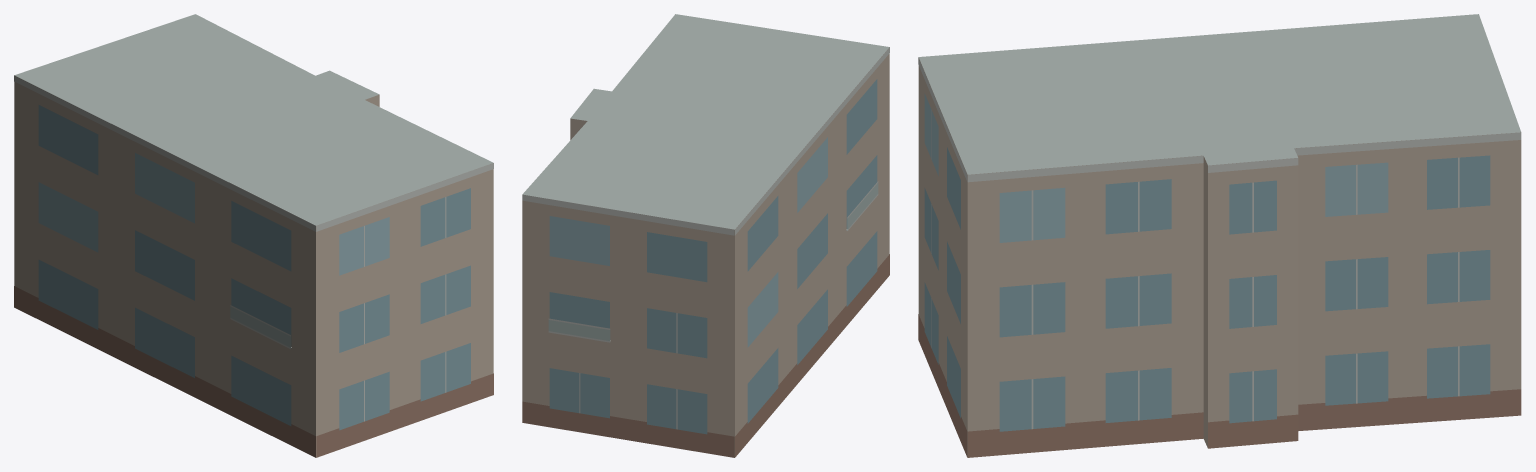
The model's file is survey-upis-32561427.glb.
3 views of the same model, side by side, from view 1: azimuth 30°, elevation 25°; view 2: azimuth 150°, elevation 25°; view 3: azimuth 270°, elevation 25° (orthographic). The views are drawn at different scales.
Visible parts, largest first — view 1: survey-upis-32561427.tmp; view 2: survey-upis-32561427.tmp; view 3: survey-upis-32561427.tmp.
Part boxes in pixels (left/top/right/bottom): survey-upis-32561427.tmp: left=14, top=14, right=493, bottom=457; survey-upis-32561427.tmp: left=522, top=14, right=889, bottom=457; survey-upis-32561427.tmp: left=918, top=14, right=1521, bottom=457.
Size of the model in its own units: 11.15 by 9.15 by 17.67.
